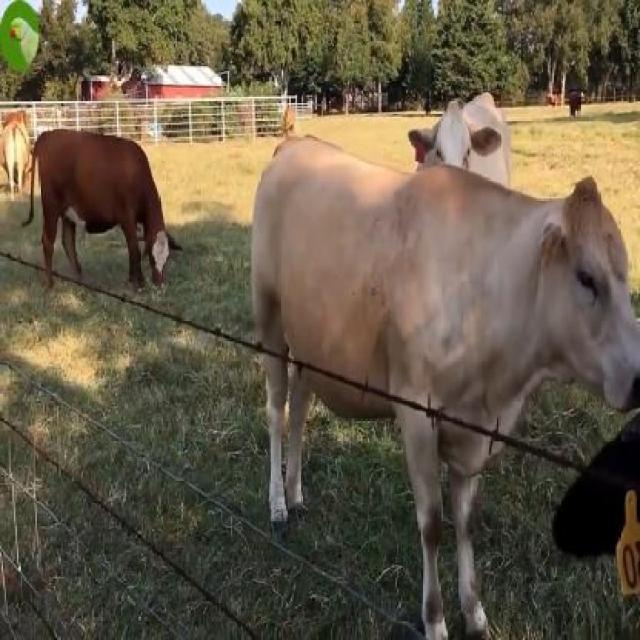Cow: (251, 138, 638, 614)
